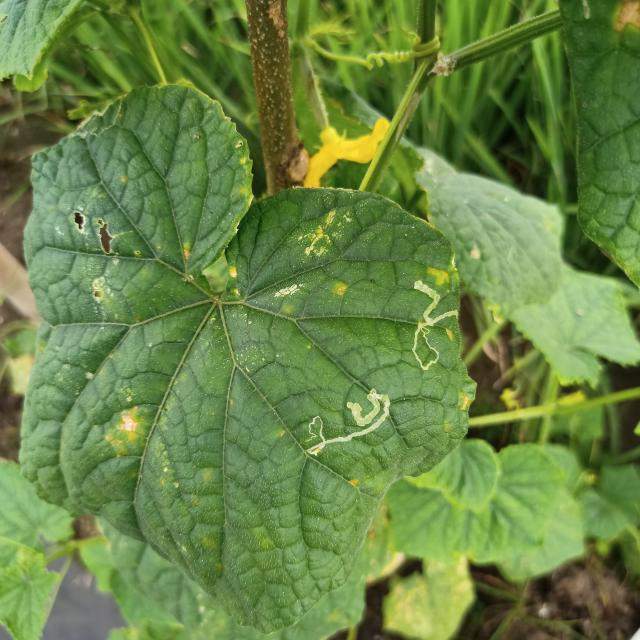disease_cucumber: (68, 206, 128, 314), (294, 206, 353, 258), (102, 398, 144, 456), (273, 276, 303, 316), (225, 264, 245, 302), (456, 388, 476, 424), (430, 264, 455, 290), (180, 243, 196, 265), (333, 280, 347, 297)
